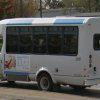Bus: (2, 15, 98, 92)
